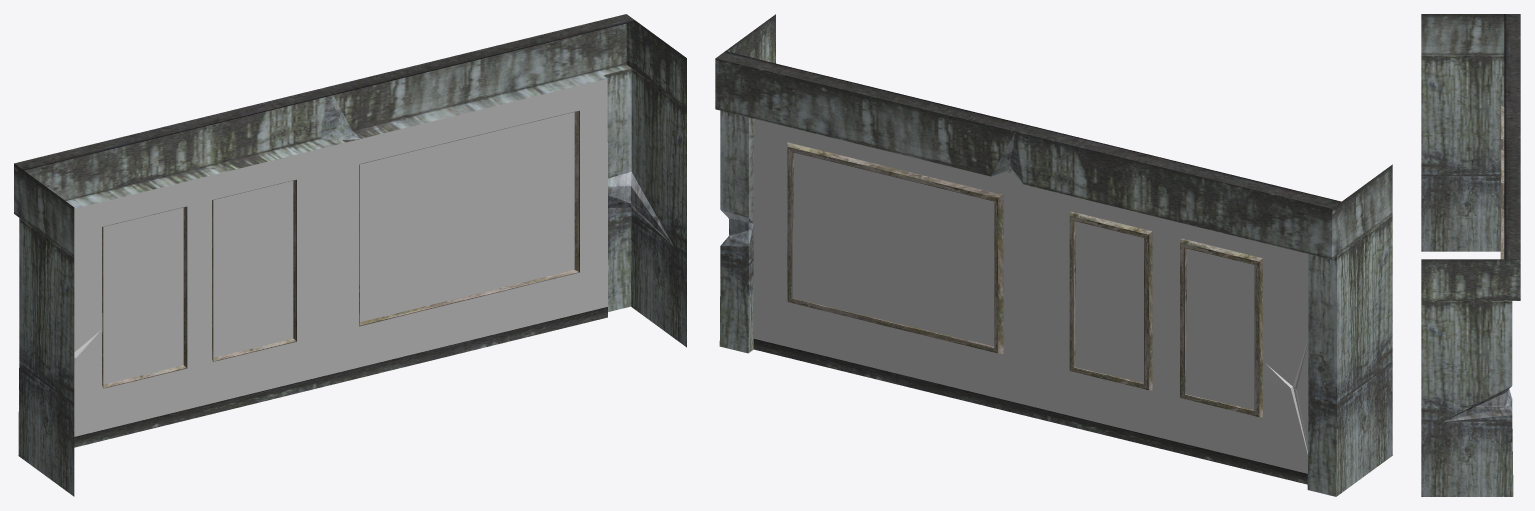
Rendered from Store_front_4_B.fbx.
3 views of the same model, side by side, from view 1: azimuth 30°, elevation 25°; view 2: azimuth 150°, elevation 25°; view 3: azimuth 270°, elevation 25° (orthographic). The views are drawn at different scales.
Visible parts, largest first — view 1: Store_front_4_B; view 2: Store_front_4_B; view 3: Store_front_4_B.
Part boxes in pixels (x1,y1,x2,y2): Store_front_4_B: (14, 14, 686, 496); Store_front_4_B: (715, 14, 1392, 496); Store_front_4_B: (1421, 14, 1520, 496).
Size of the model in its own units: 700 by 316 by 119.
